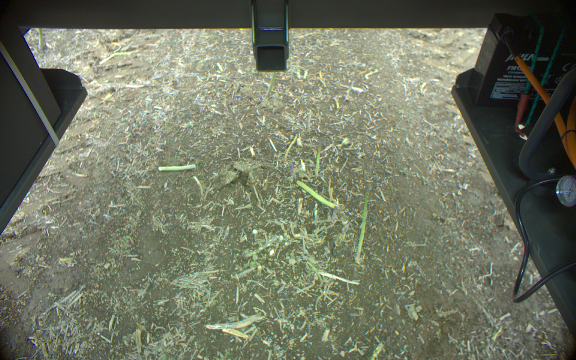aspa: (352, 183, 370, 263), (295, 178, 336, 209), (260, 72, 279, 98), (157, 162, 198, 174), (312, 143, 325, 180), (327, 200, 341, 229)
